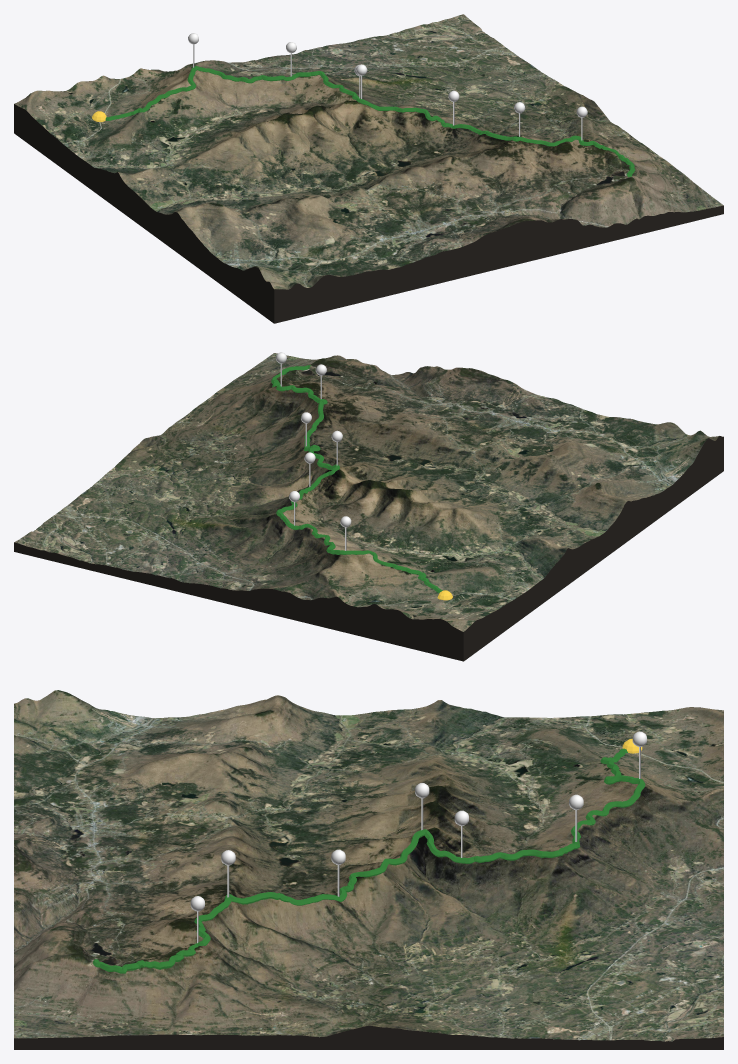
Rendered from course.glb.
3 renders of one model, top to bottom at view 1: azimuth 30°, elevation 25°; view 2: azimuth 150°, elevation 25°; view 3: azimuth 270°, elevation 25°, orthographic. The views are drawn at different scales.
Parts seen in each view (by area): view 1: terrain, course; view 2: terrain, course; view 3: terrain, course.
Boxes of the visible parts, <box> form: terrain: <box>14,14,723,323</box>; course: <box>105,66,635,177</box>; terrain: <box>14,353,723,661</box>; course: <box>271,365,442,593</box>; terrain: <box>14,690,723,1049</box>; course: <box>93,748,645,973</box>.
Size of the model in its own units: 0.4191 by 0.0815 by 0.42.
5 materials, 1 textured.
